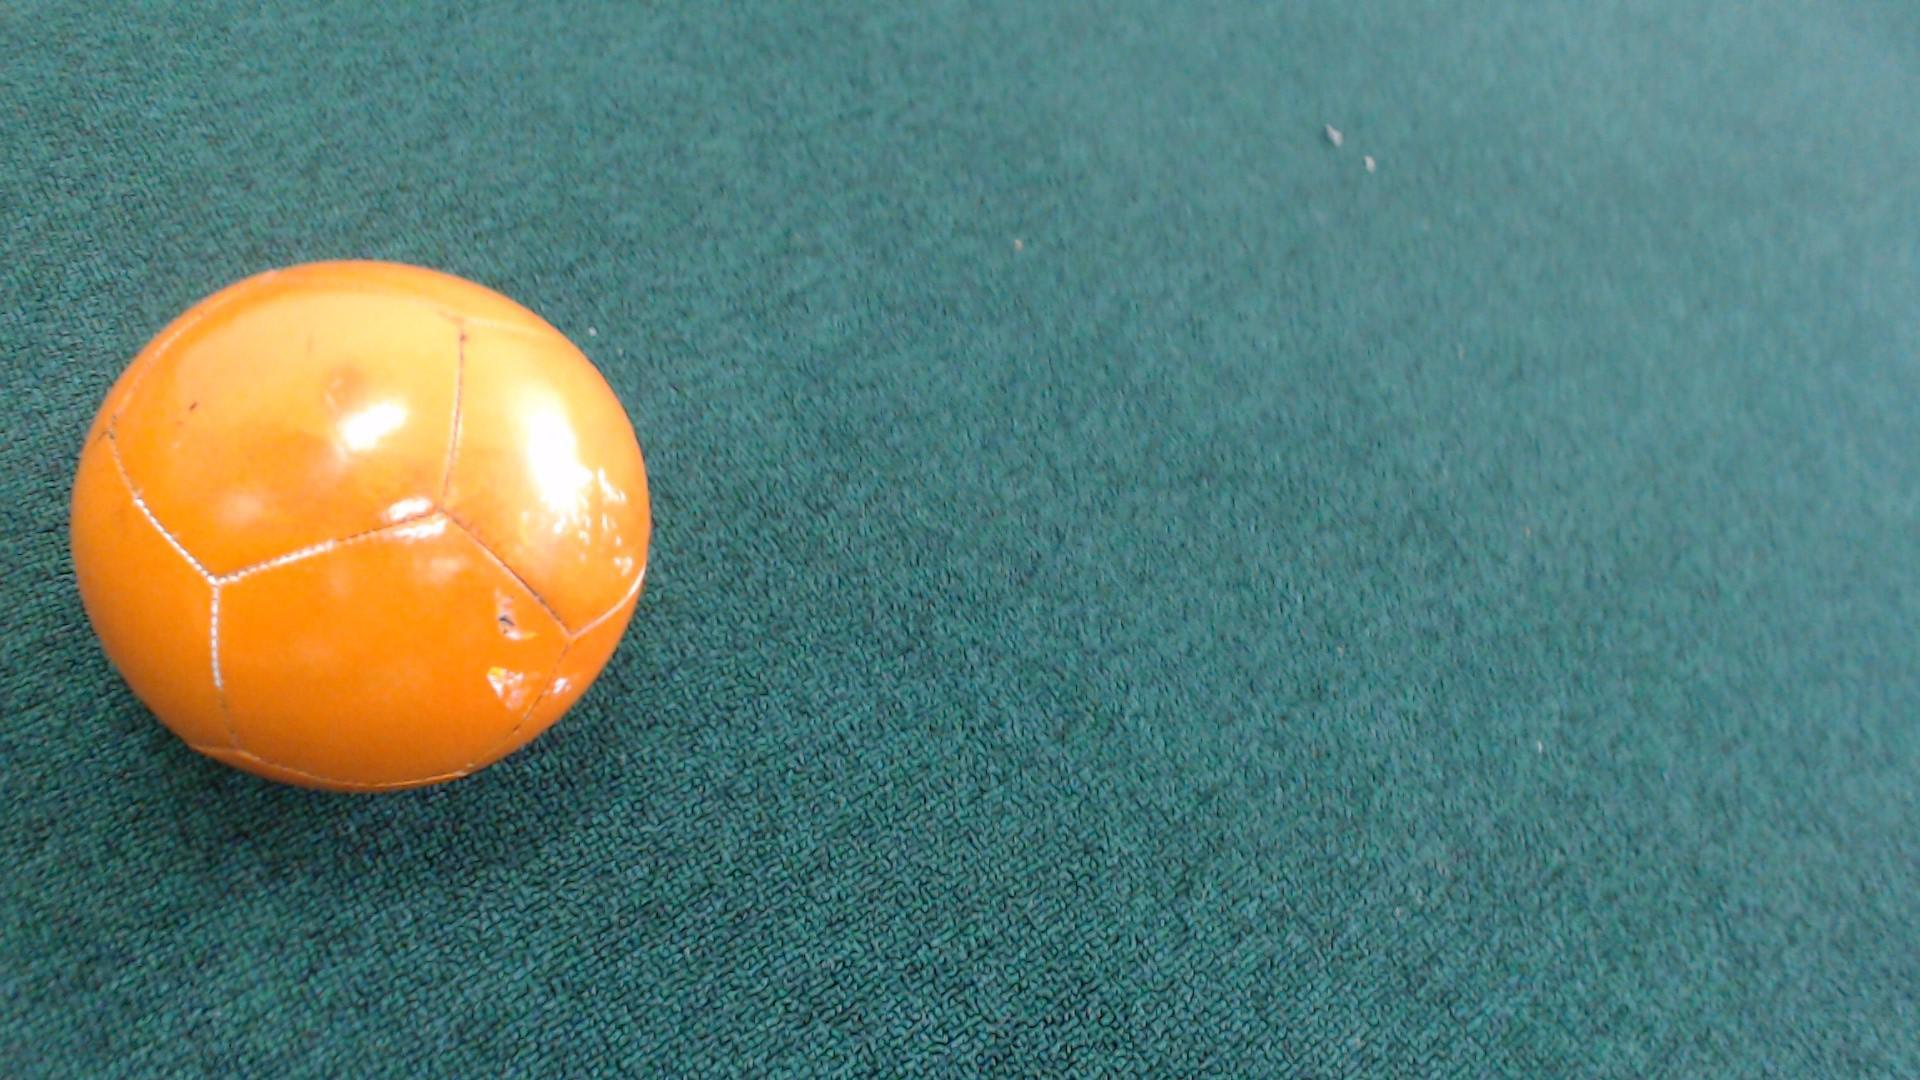bola: (41, 236, 694, 828)
